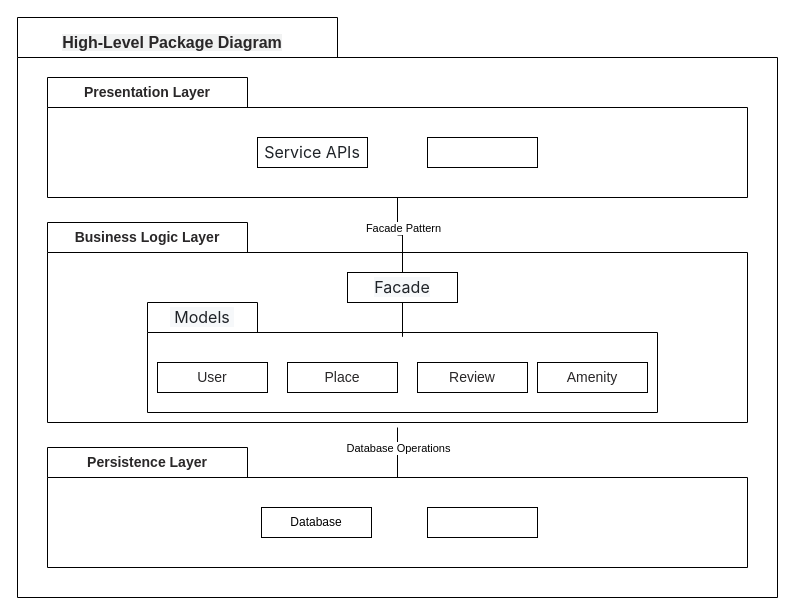
Some shapes in this 795 by 615 pixel diagram are drawn without their labels. Each missing label, with the centre of its shape:
Endpoints: the point at 482,152
Repository: the point at 482,522
